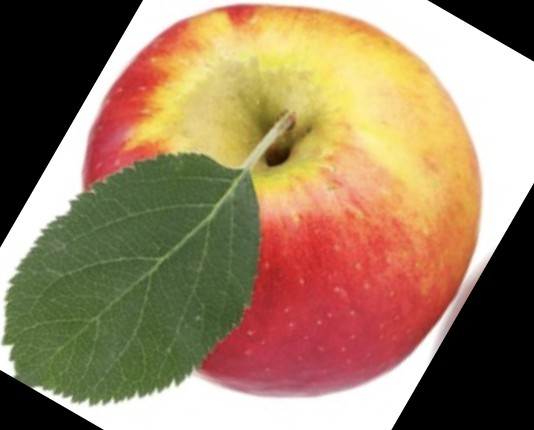fresh_apple: (90, 4, 478, 396)
